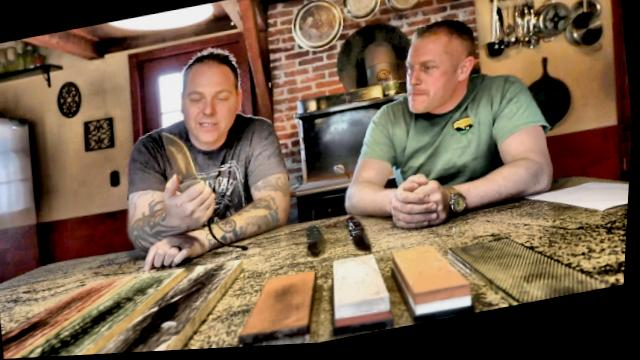knife: (151, 118, 229, 212)
